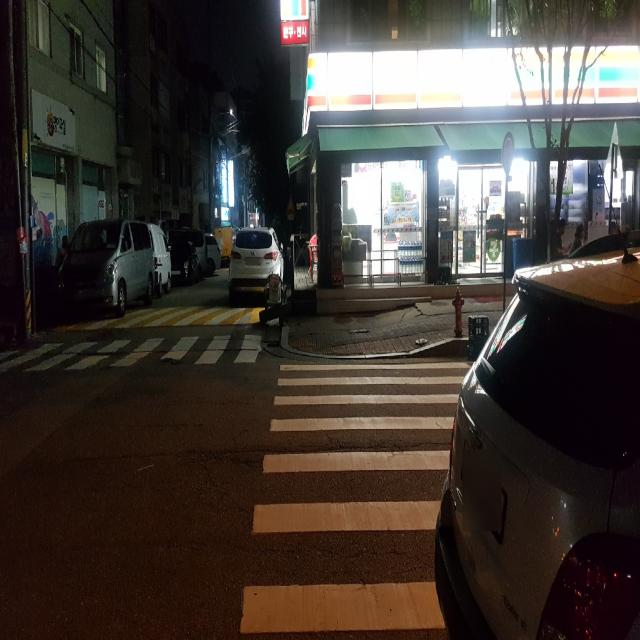횡단보도: (236, 356, 472, 640), (0, 321, 258, 379)
